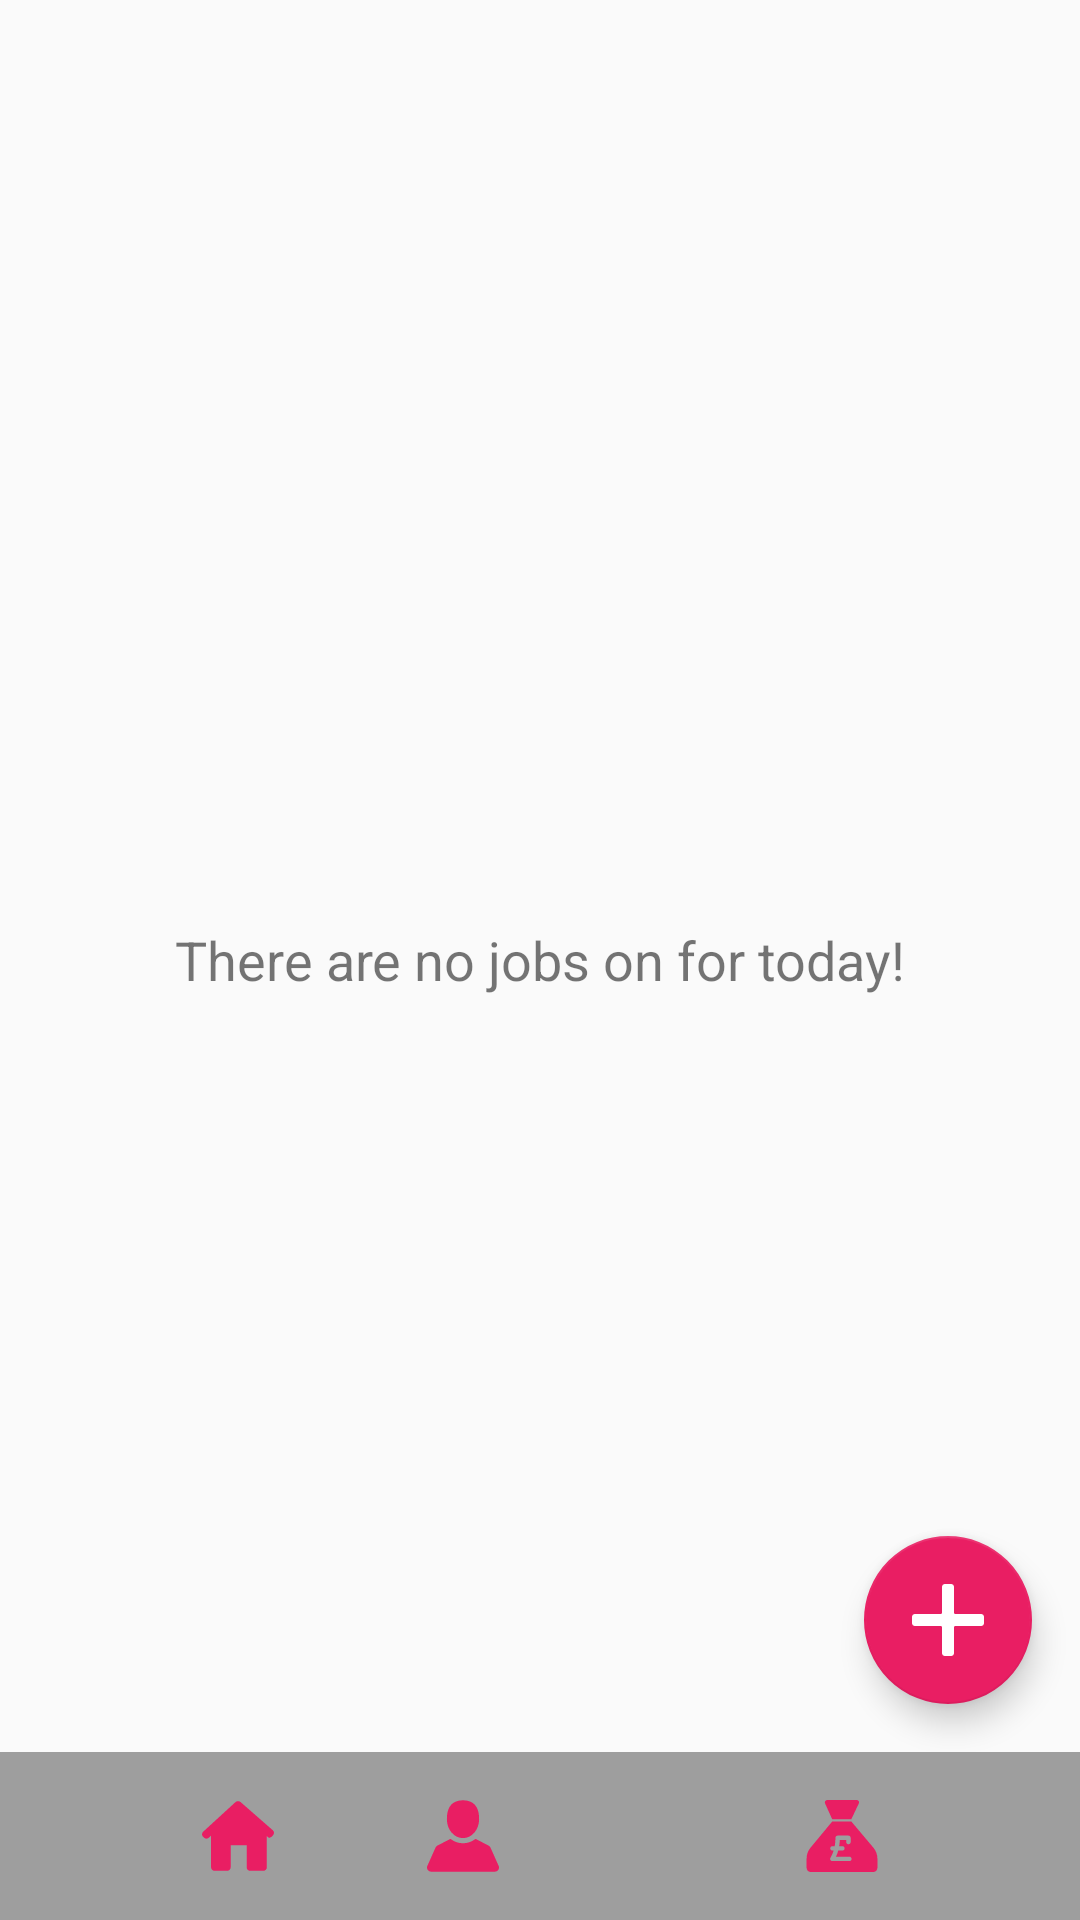

Named icons in this screenshot (1080px×1920px) and their centers, (x,y):
add: (948,1620)
home: (238,1836)
money: (842,1836)
person: (463,1836)
